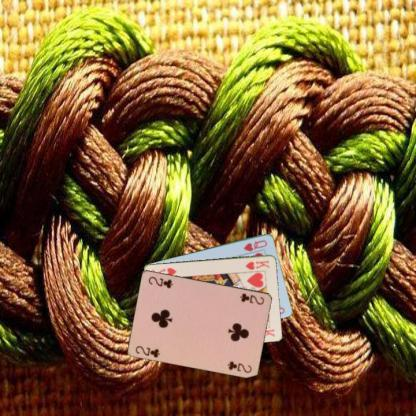2c: (133, 343, 161, 359), (238, 290, 265, 306)
Kh: (244, 258, 271, 271)
Qh: (241, 238, 268, 252)
